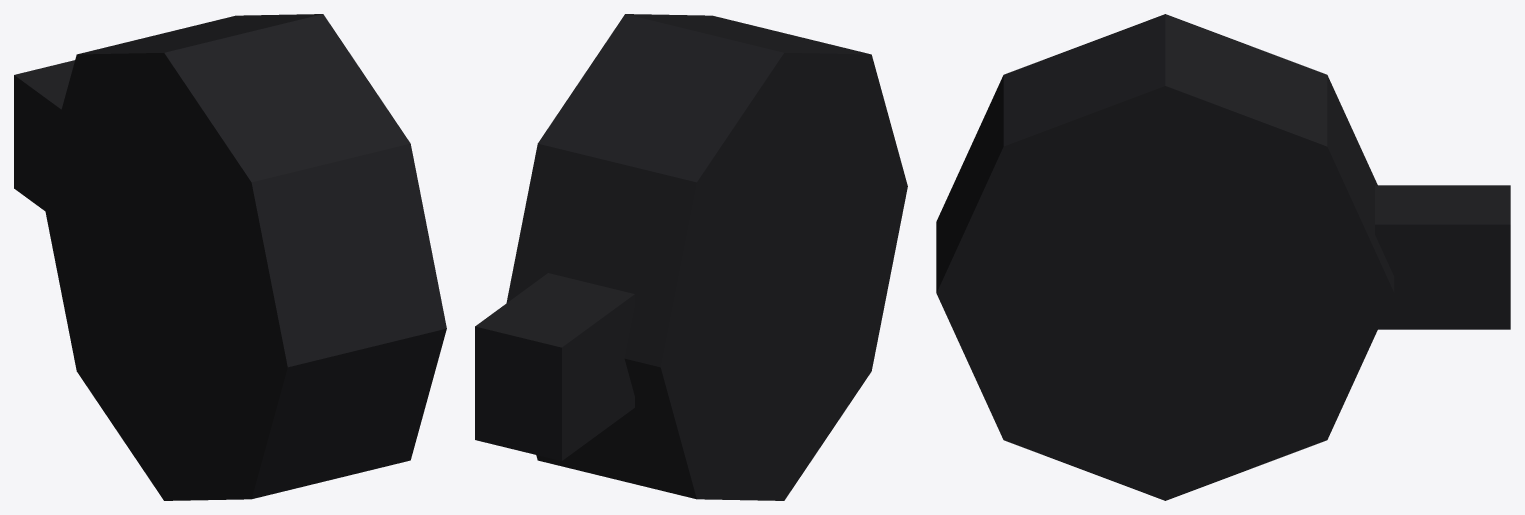
File: AA12_Drum32.fbx
The picture shows the model from 3 angles, left to right: view 1: azimuth 30°, elevation 25°; view 2: azimuth 150°, elevation 25°; view 3: azimuth 270°, elevation 25°; orthographic projection. The views are drawn at different scales.
Visible parts, largest first — view 1: prims; view 2: prims; view 3: prims.
Boxes of the visible parts, bbox=[...] form: prims: bbox=[14, 14, 446, 500]; prims: bbox=[475, 14, 907, 500]; prims: bbox=[936, 14, 1510, 500].
Size of the model in its own units: 0.0264 by 0.071 by 0.089.
